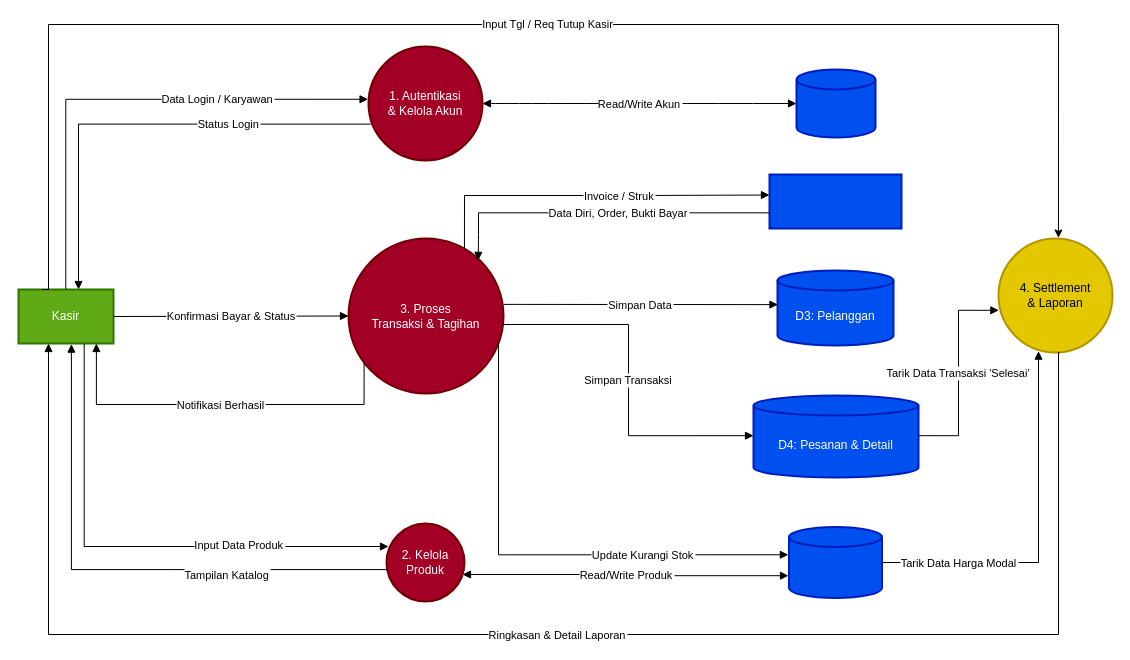
Some shapes in this 1130 by 660 pixel diagram are drawn without their labels. The centre of each missing label's shape, as x and y in pixels:
"D1: Kasir" belongs at pixel 835 103.
"D2: Produk" belongs at pixel 835 562.
"Pelanggan" belongs at pixel 835 201.
